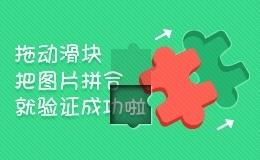target: (88, 65, 130, 105)
